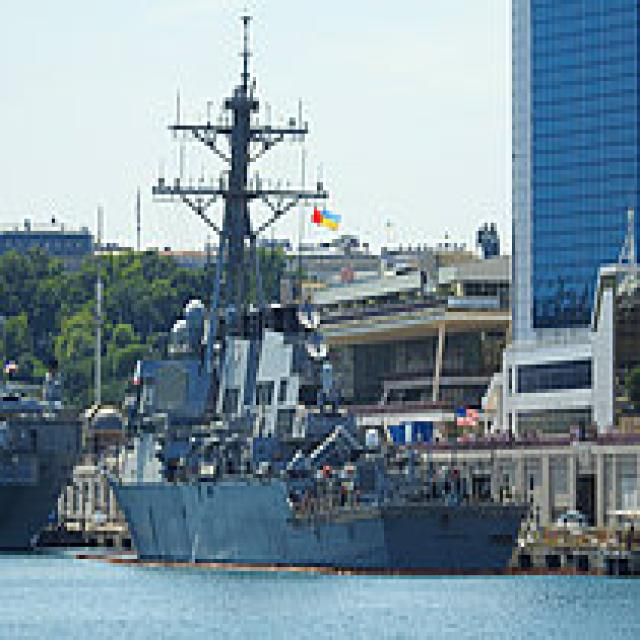Warship: (89, 4, 522, 571)
